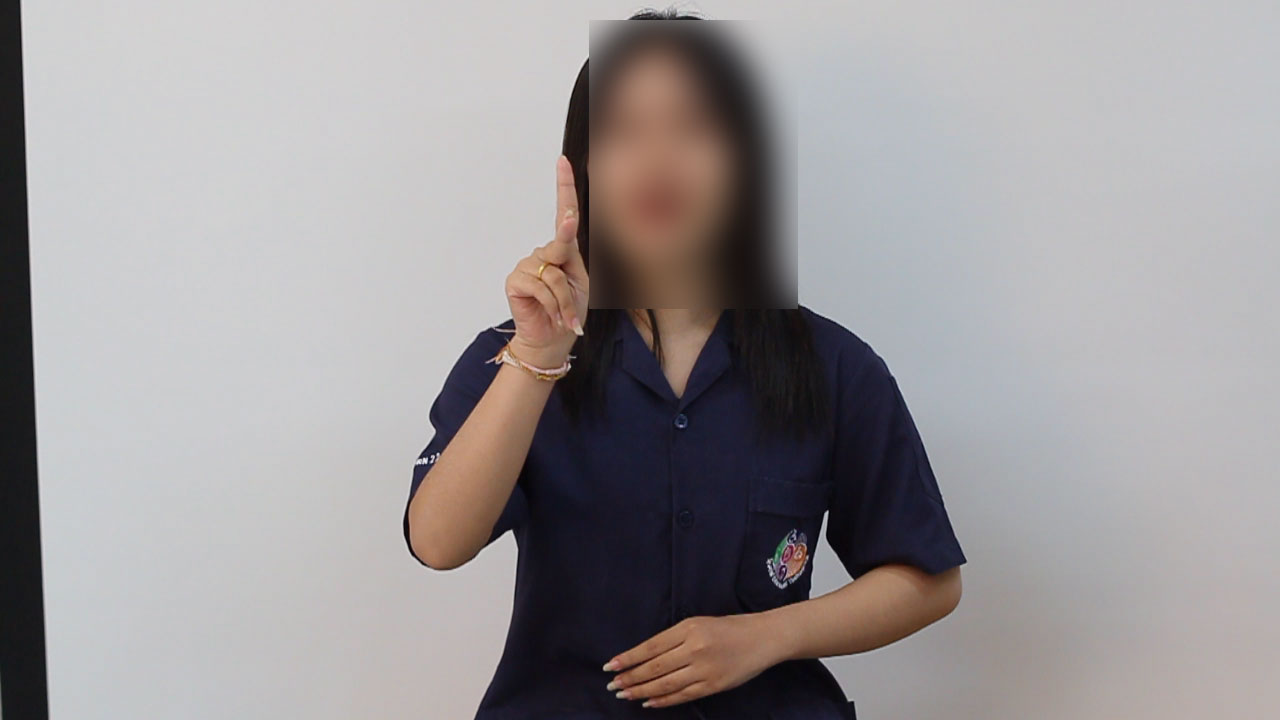ko: (460, 146, 621, 382)
